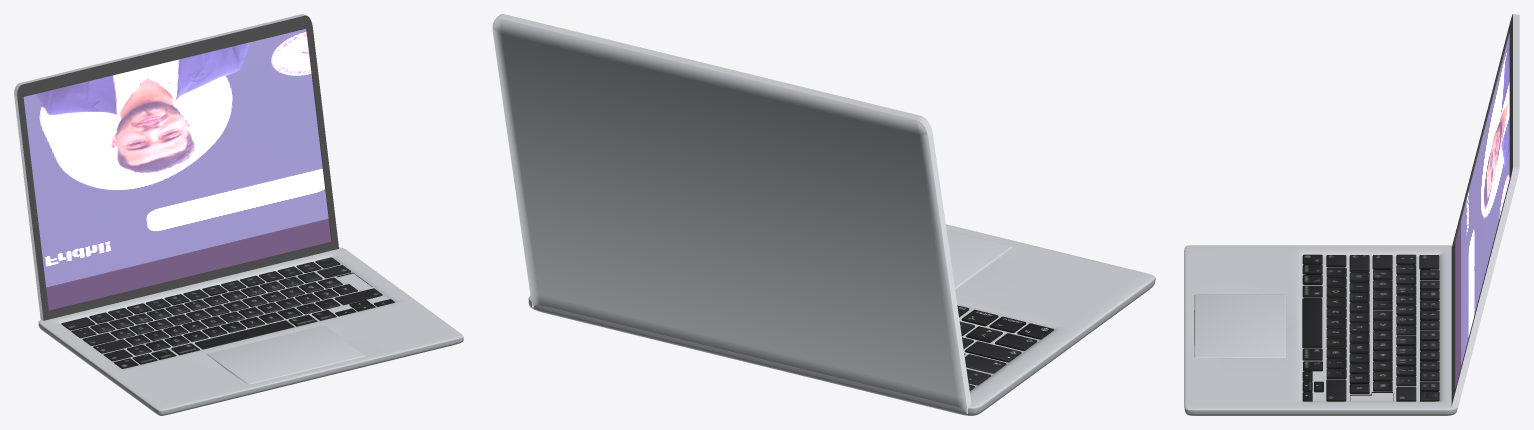
The model's file is macbook.glb.
The picture shows the model from 3 angles, left to right: view 1: azimuth 30°, elevation 25°; view 2: azimuth 150°, elevation 25°; view 3: azimuth 270°, elevation 25°; orthographic projection. The views are drawn at different scales.
Visible parts, largest first — view 1: Cube, Cube.001, Keyboard, Cube.002; view 2: Cube, Cube.001, Keyboard, Cube.002; view 3: Cube.001, Keyboard, Cube, Cube.002.
Boxes of the visible parts, box(x1,y1,x2,y2) form: Cube: box(14, 14, 338, 320); Cube.001: box(38, 247, 463, 415); Keyboard: box(61, 257, 394, 368); Cube.002: box(207, 325, 365, 384); Cube: box(492, 14, 971, 413); Cube.001: box(528, 224, 1155, 415); Keyboard: box(957, 305, 1053, 390); Cube.002: box(946, 230, 1012, 289); Cube.001: box(1184, 245, 1457, 415); Keyboard: box(1302, 254, 1439, 401); Cube: box(1451, 14, 1519, 411); Cube.002: box(1194, 294, 1286, 358).
Size of the model in its own units: 0.3221 by 0.2233 by 0.2768.
Materials: 4 (2 with a texture image).
